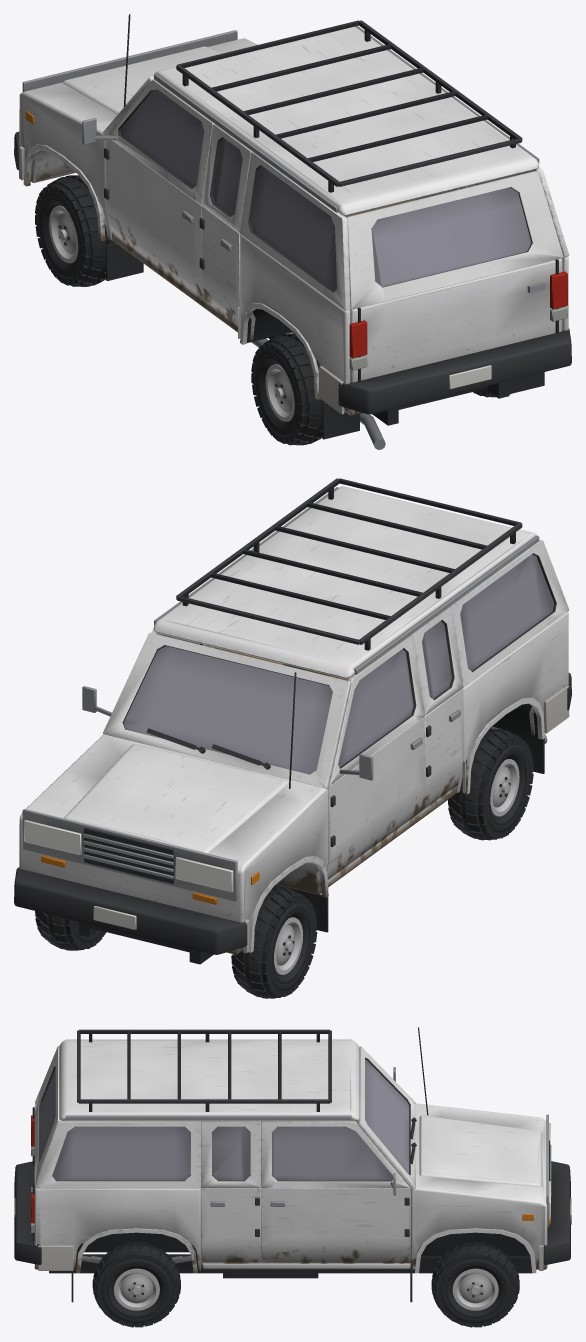
File: wayfarer.m.glb
3 views of the same model, one above another, from view 1: azimuth 30°, elevation 25°; view 2: azimuth 150°, elevation 25°; view 3: azimuth 270°, elevation 25° (orthographic). The views are drawn at different scales.
Parts seen in each view (by area): view 1: body, door_FL, door_RL, wheel_FL, wheel_RL; view 2: body, door_FL, door_RL, wheel_RL, wheel_FL, wheel_FR; view 3: body, door_FR, door_RR, wheel_FR, wheel_RR.
Part boxes in pixels (box(x1,y1,x2,y2)): body: box(14, 14, 571, 449); door_FL: box(82, 80, 214, 301); door_RL: box(199, 124, 252, 324); wheel_FL: box(35, 175, 114, 286); wheel_RL: box(251, 334, 324, 445); body: box(14, 478, 571, 964); door_FL: box(327, 635, 424, 879); door_RL: box(411, 607, 462, 811); wheel_RL: box(448, 728, 533, 840); wheel_FL: box(231, 887, 317, 998); wheel_FR: box(35, 911, 106, 950); body: box(14, 1027, 571, 1302); door_FR: box(261, 1121, 410, 1262); door_RR: box(201, 1121, 260, 1262); wheel_FR: box(431, 1241, 519, 1327); wheel_RR: box(92, 1241, 180, 1327).
Bounding box in the file's own units: 2.2 × 2.11 × 4.68.
17 materials, 1 textured.
